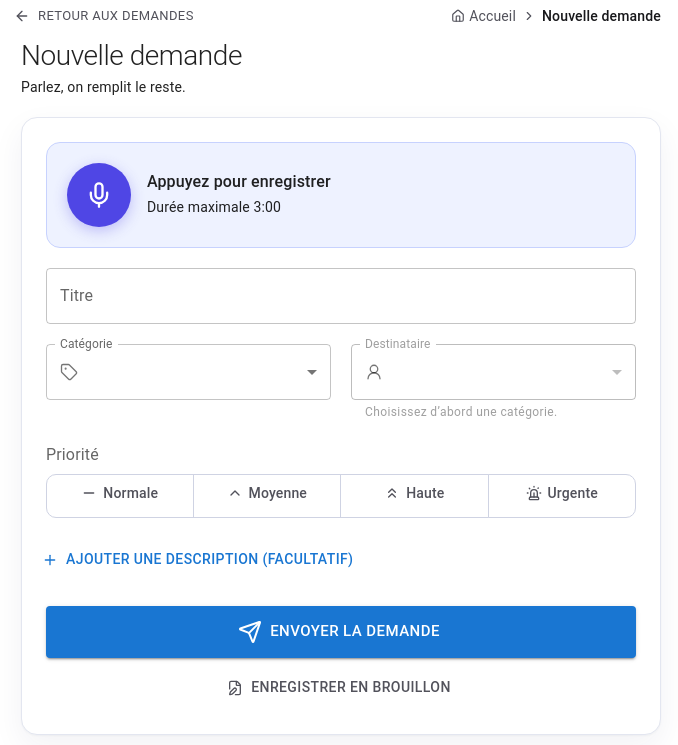
Test case: Propositions automatiques › aucune analyse proposée tant qu’il n’y a ni description ni vocal
Expected: the button "Proposer une catégorie et une priorité" is not shown
Expected: the heading "Nouvelle demande" is shown, x1=21 y1=39 x2=242 y2=72
Click the button "Ajouter une description (facultatif)" at x=200, y=560, box x1=38 y1=538 x2=362 y2=582
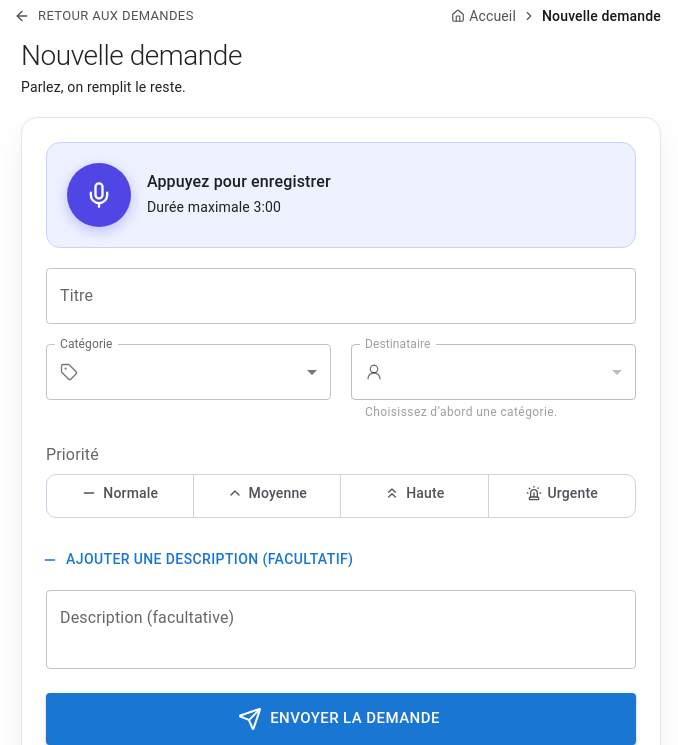
Type "La photocopieuse du premier étage est en panne." into the text box labelled "Description (facultative)" at x=341, y=629, box x1=60 y1=606 x2=622 y2=652
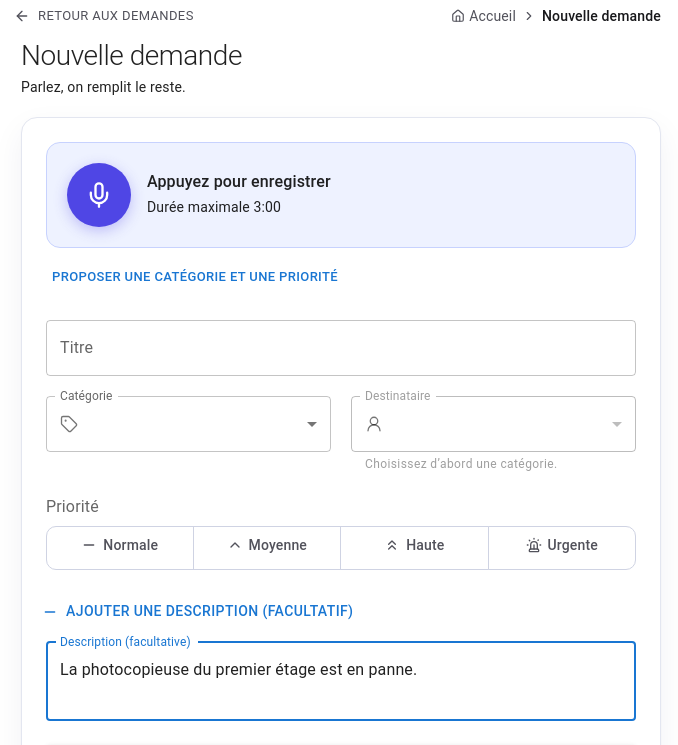
Expected: the button "Proposer une catégorie et une priorité" is enabled, x1=46 y1=256 x2=344 y2=300
